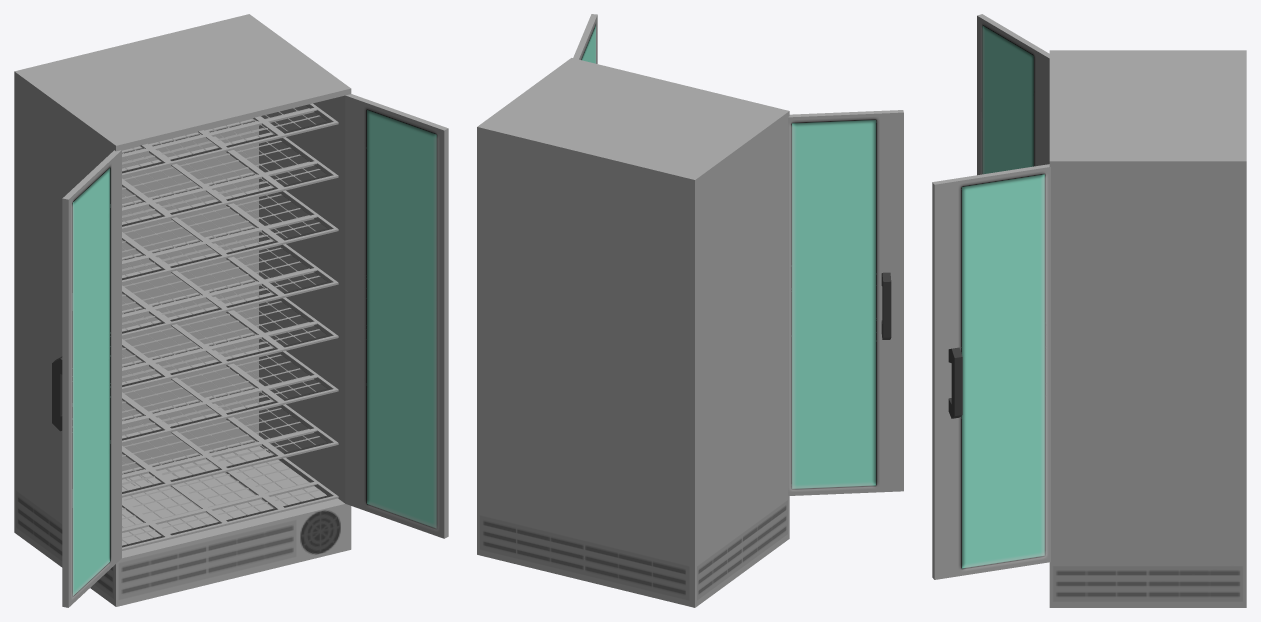
File: Fridge_Open.fbx
The picture shows the model from 3 angles, left to right: view 1: azimuth 30°, elevation 25°; view 2: azimuth 150°, elevation 25°; view 3: azimuth 270°, elevation 25°; orthographic projection. The views are drawn at different scales.
Parts seen in each view (by area): view 1: Box002; view 2: Box002; view 3: Box002.
Boxes of the visible parts, bbox=[...] form: Box002: bbox=[14, 14, 448, 607]; Box002: bbox=[477, 14, 903, 607]; Box002: bbox=[932, 14, 1246, 607].
Bounding box in the file's own units: 127 × 150 × 95.73.
